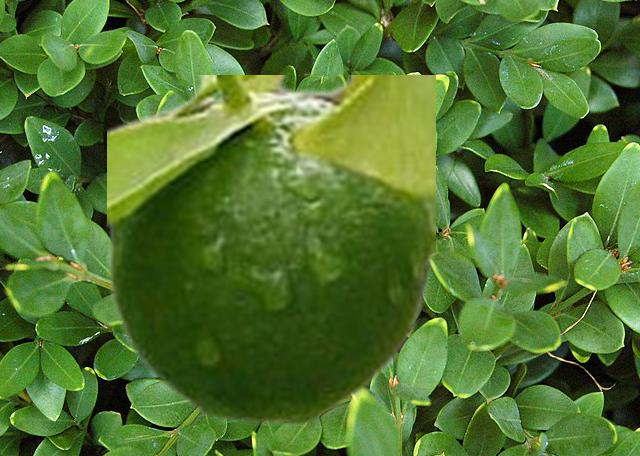dalandan: (107, 75, 434, 424)
